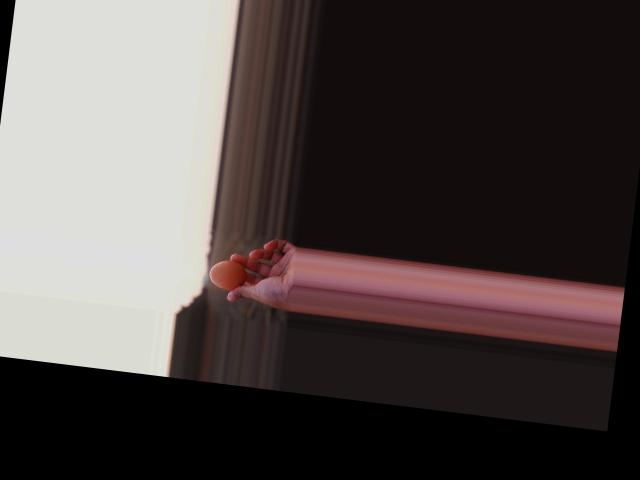egg: (207, 258, 247, 291)
